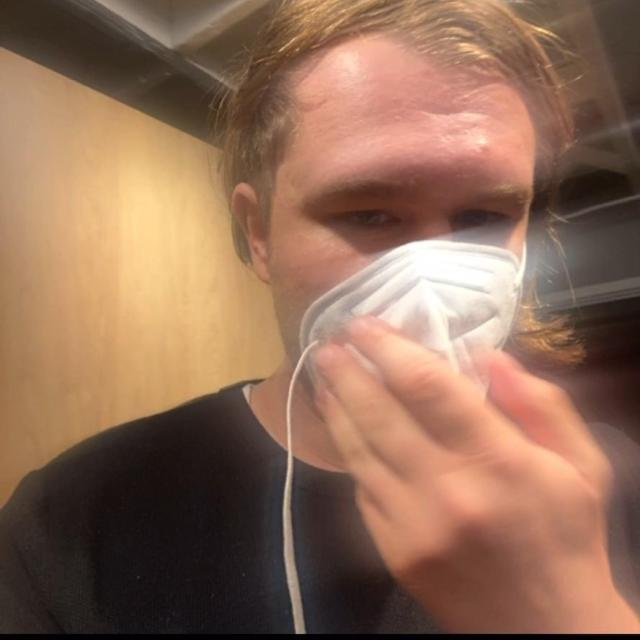no-helmet: (198, 24, 529, 470)
